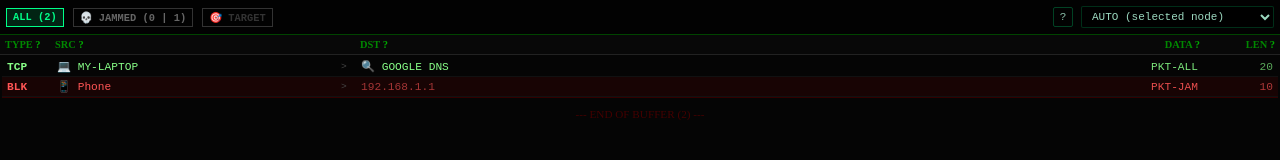
Test case: TrafficPanel › debe filtrar por JAMMED al pulsar el boton
This screenshot has width=1280, height=160.
Step 1. Click the button "💀 JAMMED (0 | 1)" → (133, 17), box [73, 8, 193, 26]
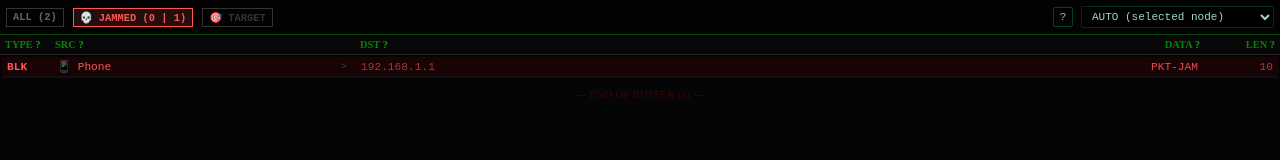
Expected: the text "PKT-JAM" is shown, [1151, 60, 1198, 72]
Now the text "PKT-ALL" is gone
